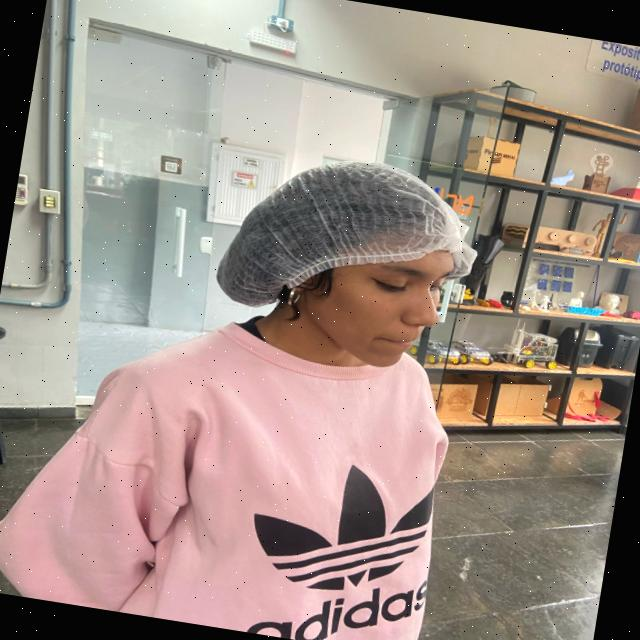TOUCA: (207, 164, 474, 312)
